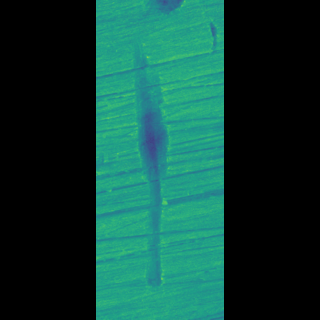Loch: (146, 39, 164, 293)
